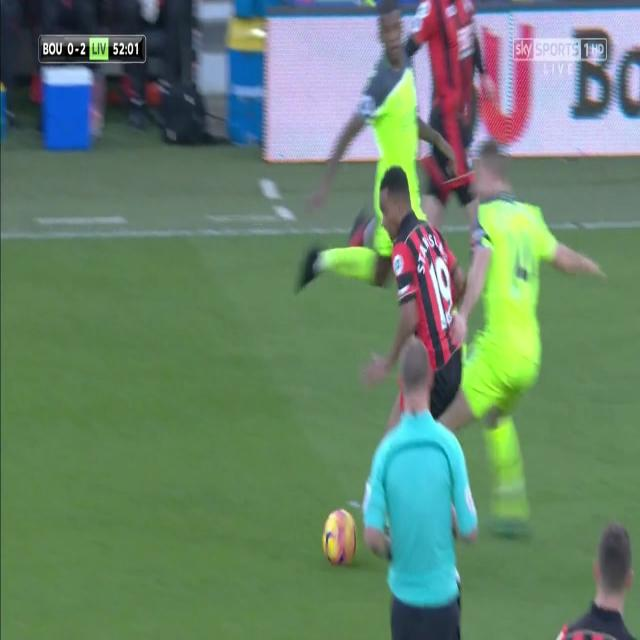Ball: (320, 503, 359, 572)
Player: (453, 142, 609, 535), (296, 1, 421, 291), (363, 164, 467, 420), (414, 0, 487, 239)
Referee: (363, 333, 481, 640)
